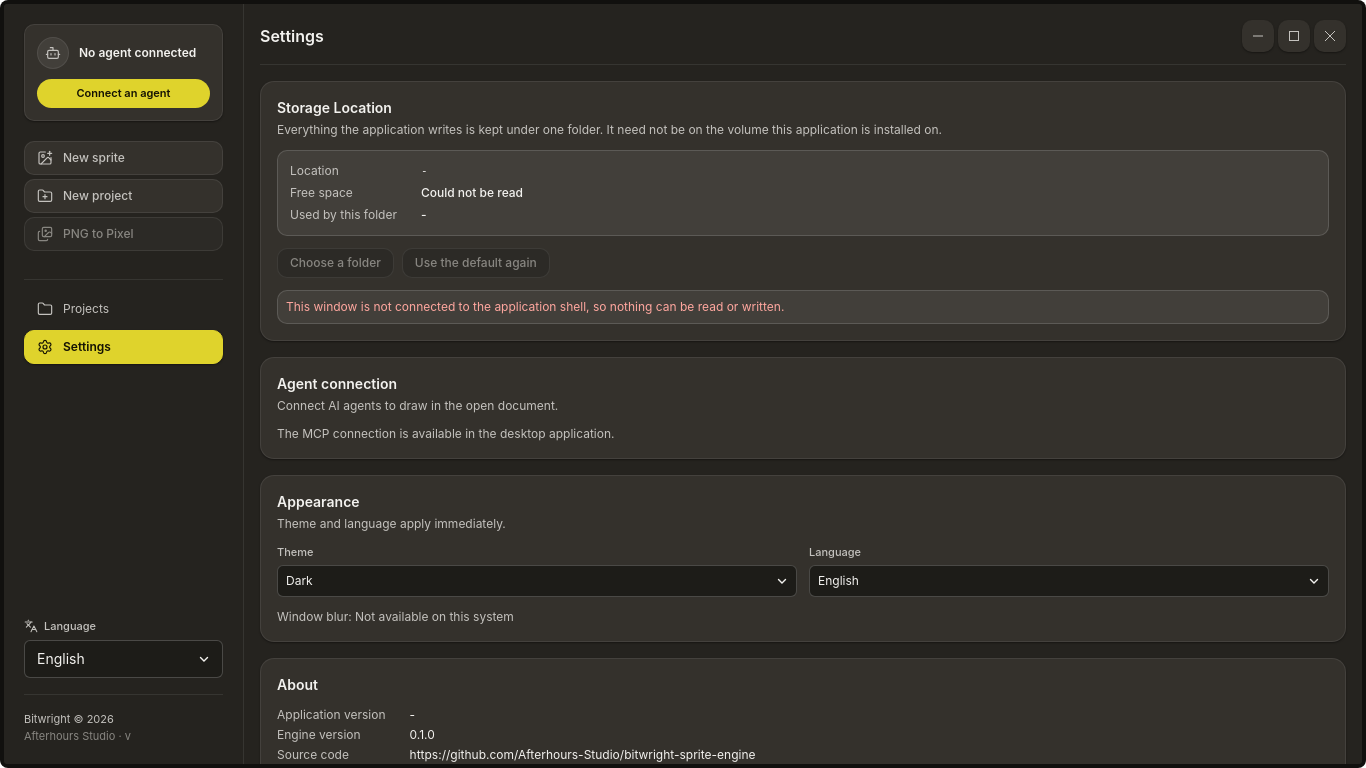
Scenario: settings › applies a theme chosen in the appearance section
The width and height of the screenshot is (1366, 768).
Click the dropdown named "Theme".
click(299, 580)  # box [277, 564, 797, 596]
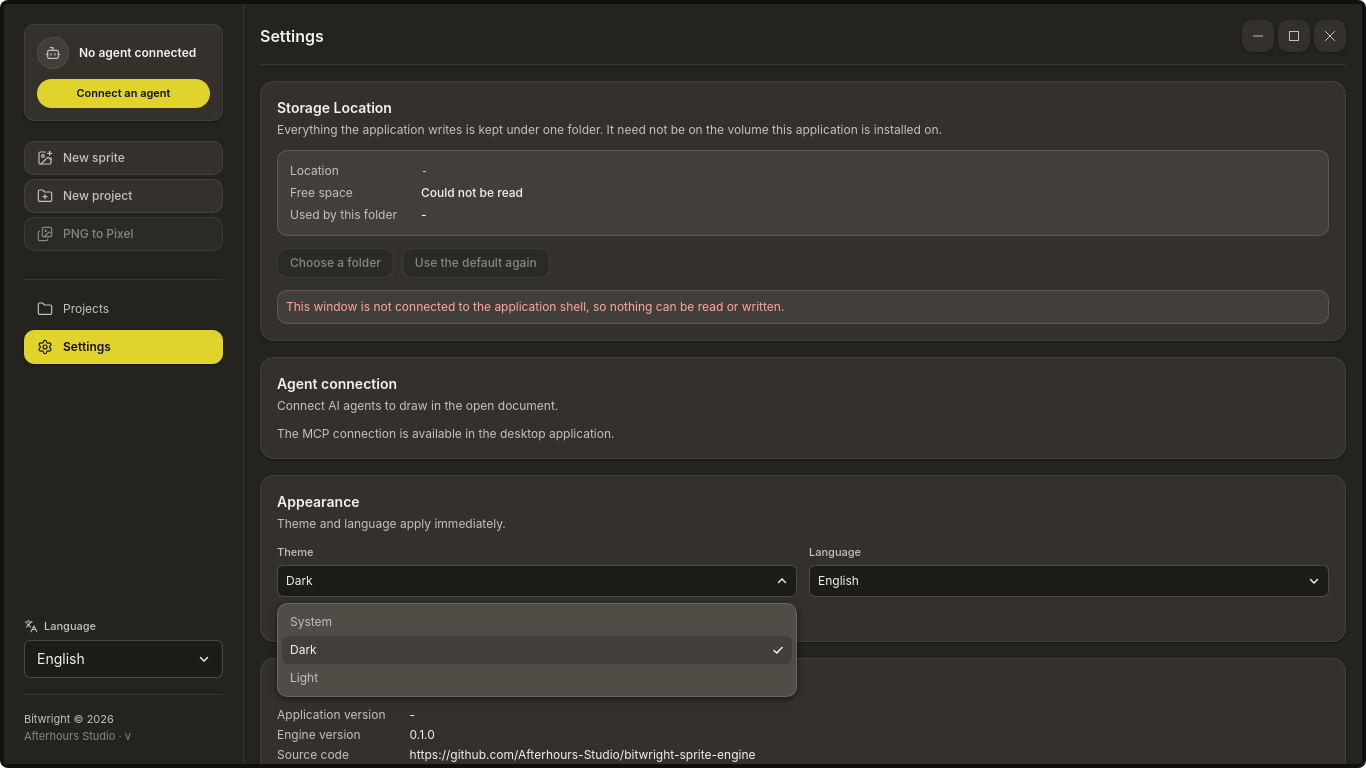
Click the option "Light".
click(304, 677)  # box [282, 664, 792, 692]
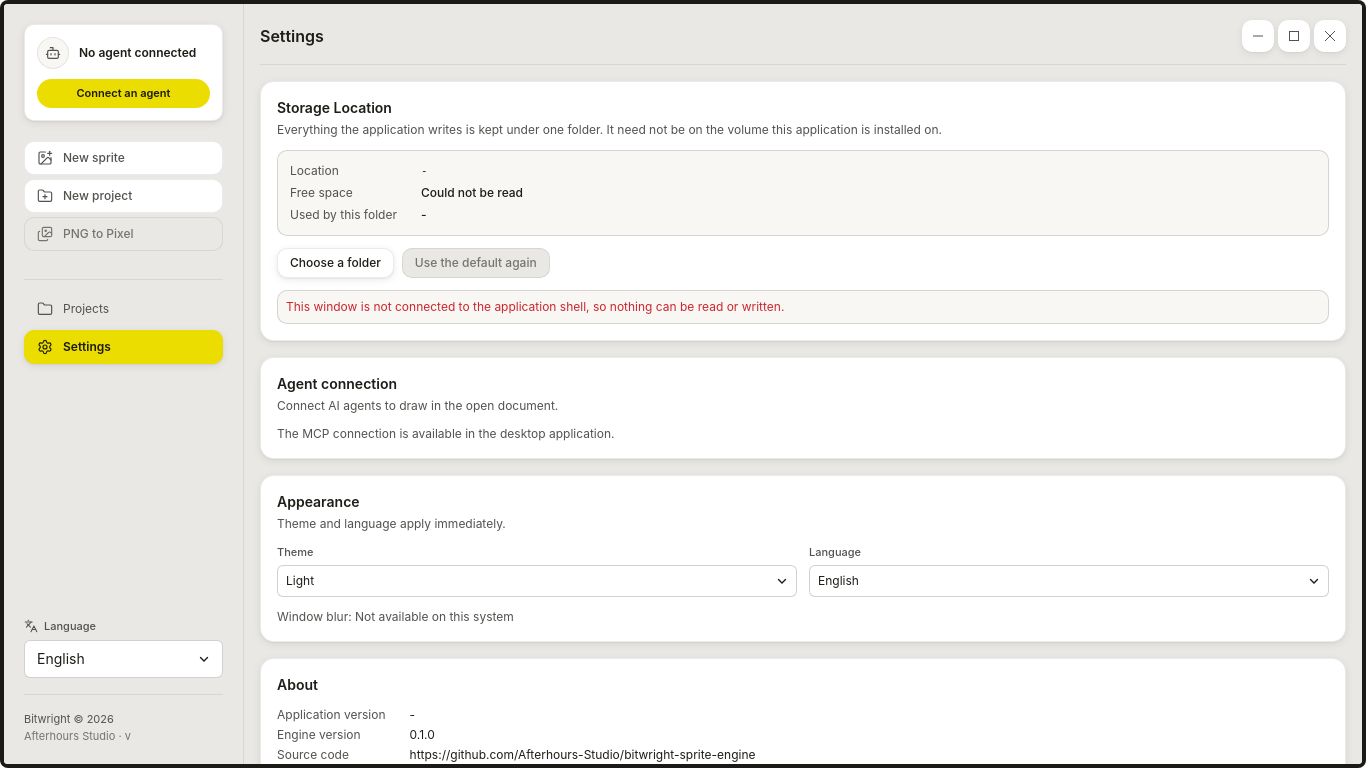
Result: the dropdown named "Theme" reads "Light" at [277, 564, 797, 596]
